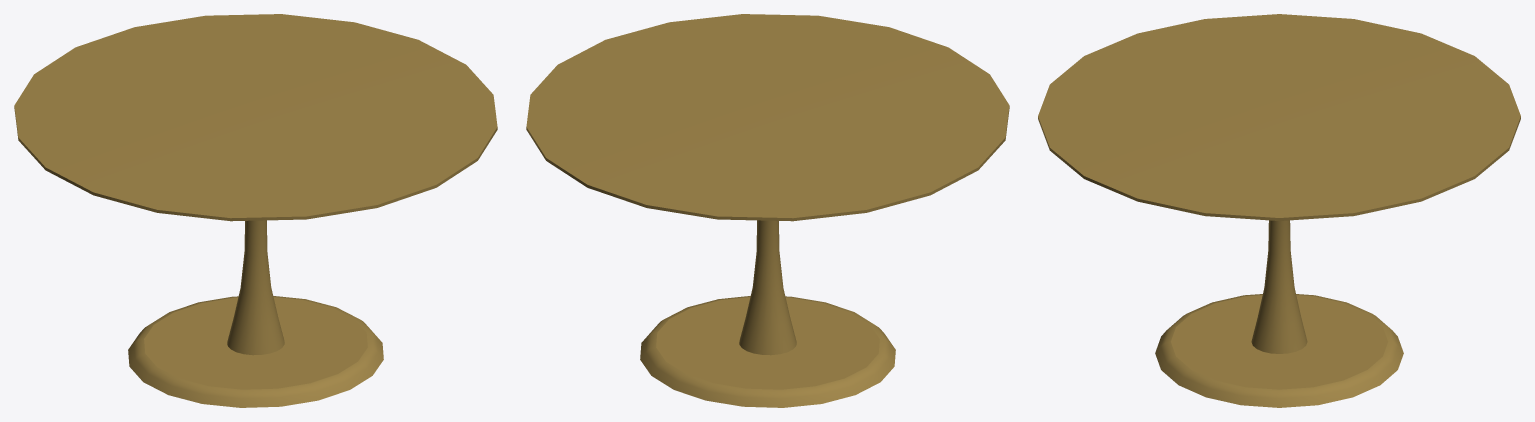
File: table_03.fbx
The picture shows the model from 3 angles, left to right: view 1: azimuth 30°, elevation 25°; view 2: azimuth 150°, elevation 25°; view 3: azimuth 270°, elevation 25°; orthographic projection.
Visible parts, largest first — view 1: table_03; view 2: table_03; view 3: table_03.
Boxes of the visible parts, left/top/right/bottom form: table_03: left=14, top=14, right=497, bottom=407; table_03: left=526, top=14, right=1009, bottom=407; table_03: left=1038, top=14, right=1520, bottom=407.
Bounding box in the file's own units: 6.71 × 3.68 × 6.71.
